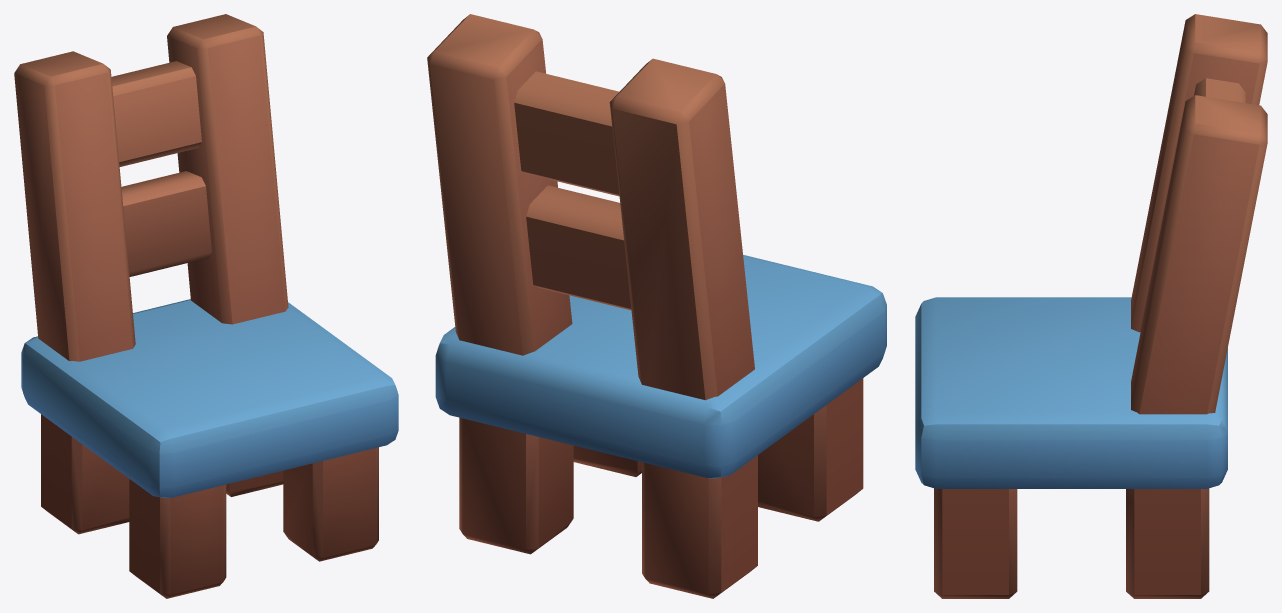
File: seat.glb
3 renders of one model, left to right at view 1: azimuth 30°, elevation 25°; view 2: azimuth 150°, elevation 25°; view 3: azimuth 270°, elevation 25°, orthographic. The views are drawn at different scales.
Parts seen in each view (by area): view 1: chair_A; view 2: chair_A; view 3: chair_A.
Boxes of the visible parts, x1,y1,x2,y2 form: chair_A: (14,14,398,598); chair_A: (427,14,886,598); chair_A: (915,14,1267,598).
Bounding box in the file's own units: 0.75 × 1.26 × 0.8451.
Materials: 1 (1 with a texture image).
